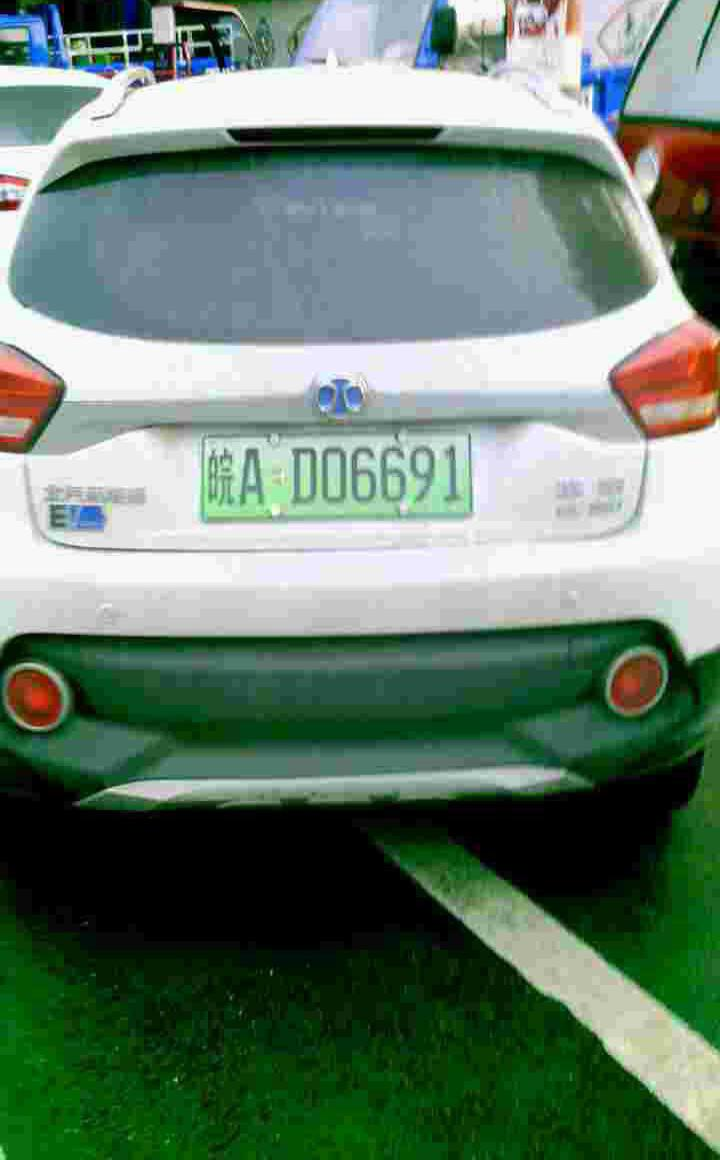car: (204, 421, 498, 525)
